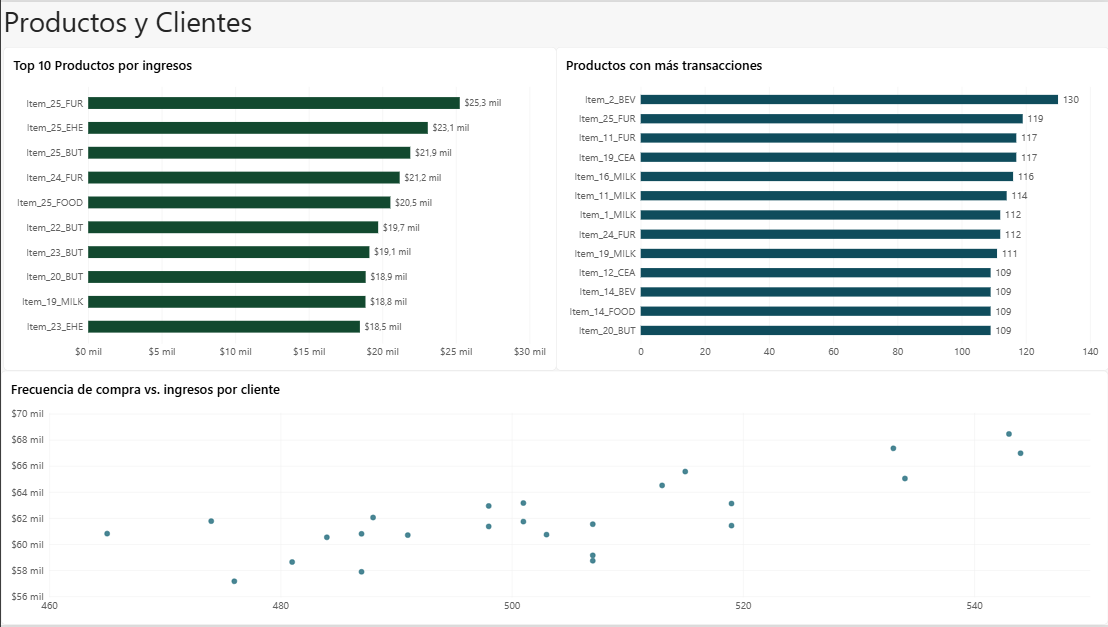

The dashboard page shown, as its layout file describes it:
{"tool":"powerbi","page":{"name":"Productos y Clientes","canvas":[1920,1080],"ordinal":1},"visuals":[{"type":"clusteredBarChart","title":"Top 10 Productos por ingresos","fields":{"Category":["RetailSales_Validada.Item"],"Y":["RetailSales_Validada.Ingresos Registrados"]},"box":[4.3,130,957.6,526.5],"z":0},{"type":"clusteredBarChart","title":"Productos con más transacciones","fields":{"Category":["RetailSales_Validada.Item"],"Y":["RetailSales_Validada.Total Transacciones"]},"box":[962,130,957.6,526.5],"z":1000},{"type":"scatterChart","title":"Frecuencia de compra vs. ingresos por cliente","fields":{"Category":["RetailSales_Validada.Customer_ID"],"X":["RetailSales_Validada.Total Transacciones"],"Y":["RetailSales_Validada.Ingresos Registrados"]},"box":[4.3,656.5,1915.3,422.5],"z":2000},{"type":"textbox","box":[4.3,0,478.8,78],"z":3000},{"type":"textbox","box":[4.3,78,1235,52],"z":4000},{"type":"actionButton","box":[1759.3,0,156,128],"z":4001}]}

Visuals, with their boxes in screenshot pixels (x1, y1, x2, y2), scaled from the page's 1920x1080 canvas onto the 1108x627 screenshot:
"Top 10 Productos por ingresos" clusteredBarChart: 2, 75, 555, 381
"Productos con más transacciones" clusteredBarChart: 555, 75, 1107, 381
"Frecuencia de compra vs. ingresos por cliente" scatterChart: 2, 381, 1107, 626
textbox: 2, 0, 279, 45
textbox: 2, 45, 715, 75
actionButton: 1015, 0, 1105, 74
